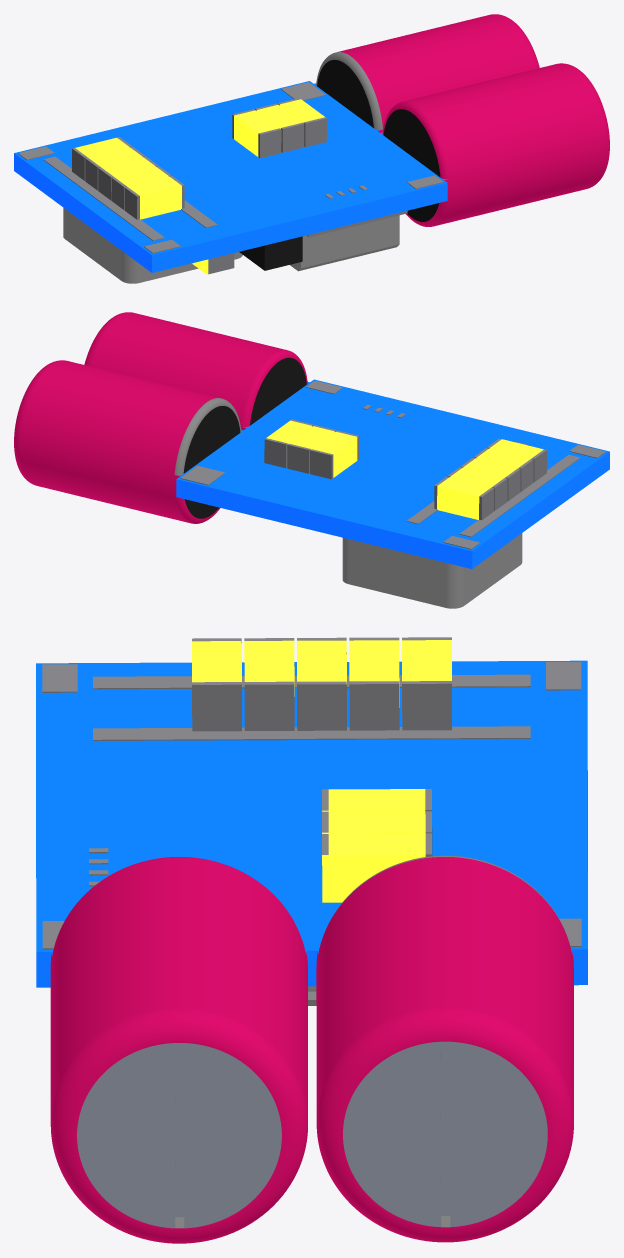
The model's file is ubec3.glb.
3 renders of one model, top to bottom at view 1: azimuth 30°, elevation 25°; view 2: azimuth 150°, elevation 25°; view 3: azimuth 270°, elevation 25°, orthographic. The views are drawn at different scales.
Parts seen in each view (by area): view 1: UBEC 2 v1, UBEC 2 v1.001, UBEC 2 v1.003, UBEC 2 v1.004, UBEC 2 v1.005, UBEC 2 v1.006, UBEC 2 v1.008, UBEC 2 v1.007; view 2: UBEC 2 v1.001, UBEC 2 v1, UBEC 2 v1.006, UBEC 2 v1.003, UBEC 2 v1.004; view 3: UBEC 2 v1.001, UBEC 2 v1, UBEC 2 v1.003, UBEC 2 v1.004.
Part boxes in pixels (left/top/right/bottom): UBEC 2 v1: left=14, top=81, right=447, bottom=272; UBEC 2 v1.001: left=314, top=14, right=609, bottom=226; UBEC 2 v1.003: left=72, top=137, right=184, bottom=219; UBEC 2 v1.004: left=232, top=98, right=326, bottom=158; UBEC 2 v1.005: left=290, top=210, right=407, bottom=271; UBEC 2 v1.006: left=63, top=208, right=242, bottom=283; UBEC 2 v1.008: left=239, top=236, right=302, bottom=270; UBEC 2 v1.007: left=192, top=253, right=234, bottom=274; UBEC 2 v1.001: left=14, top=312, right=309, bottom=523; UBEC 2 v1: left=176, top=379, right=609, bottom=568; UBEC 2 v1.006: left=342, top=533, right=522, bottom=608; UBEC 2 v1.003: left=434, top=438, right=546, bottom=520; UBEC 2 v1.004: left=264, top=419, right=358, bottom=479; UBEC 2 v1.001: left=50, top=855, right=587, bottom=1243; UBEC 2 v1: left=36, top=660, right=587, bottom=987; UBEC 2 v1.003: left=192, top=637, right=451, bottom=731; UBEC 2 v1.004: left=322, top=789, right=432, bottom=902.
Bounding box in the file's own units: 111 × 29.01 × 57.08.
